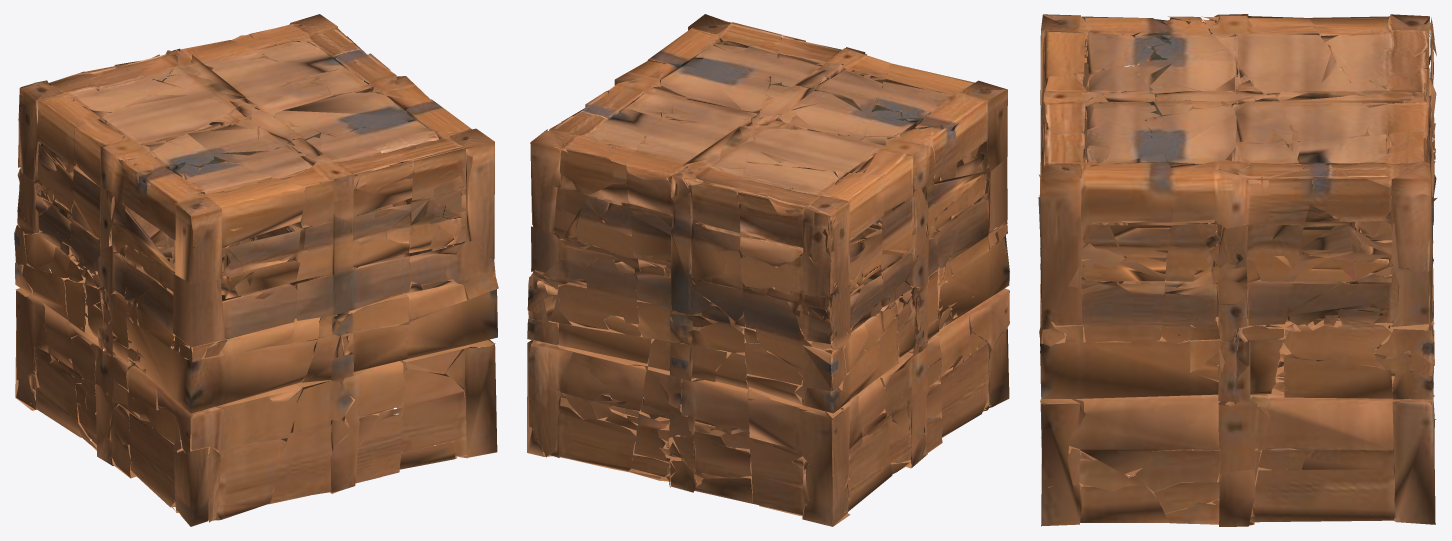
Rendered from crate-mound.glb.
3 renders of one model, left to right at view 1: azimuth 30°, elevation 25°; view 2: azimuth 150°, elevation 25°; view 3: azimuth 270°, elevation 25°, orthographic. The views are drawn at different scales.
Visible parts, largest first — view 1: crate-mound; view 2: crate-mound; view 3: crate-mound.
Boxes of the visible parts, x1,y1,x2,y2 form: crate-mound: (14, 14, 498, 526); crate-mound: (527, 14, 1009, 526); crate-mound: (1038, 14, 1436, 526).
Bounding box in the file's own units: 2.41 × 2.35 × 2.4.
1 material, 1 textured.
